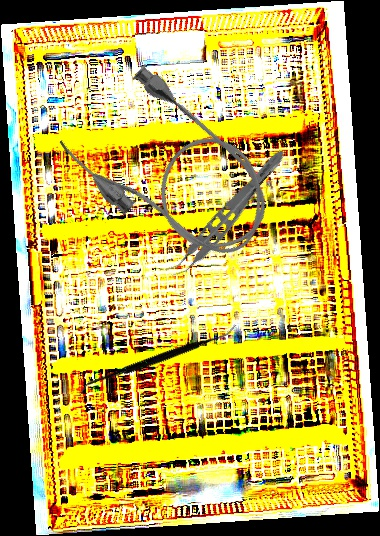Cannula: (49, 53, 295, 289)
Spatula Surgical: (78, 274, 237, 447)
Tissue Forceps: (163, 139, 289, 286)
